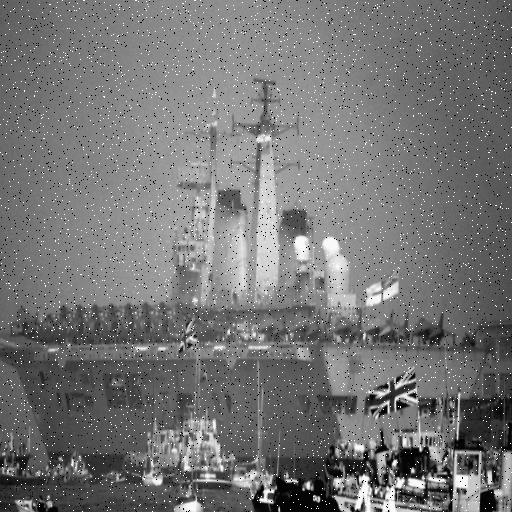Portanaves: (1, 75, 490, 474)
